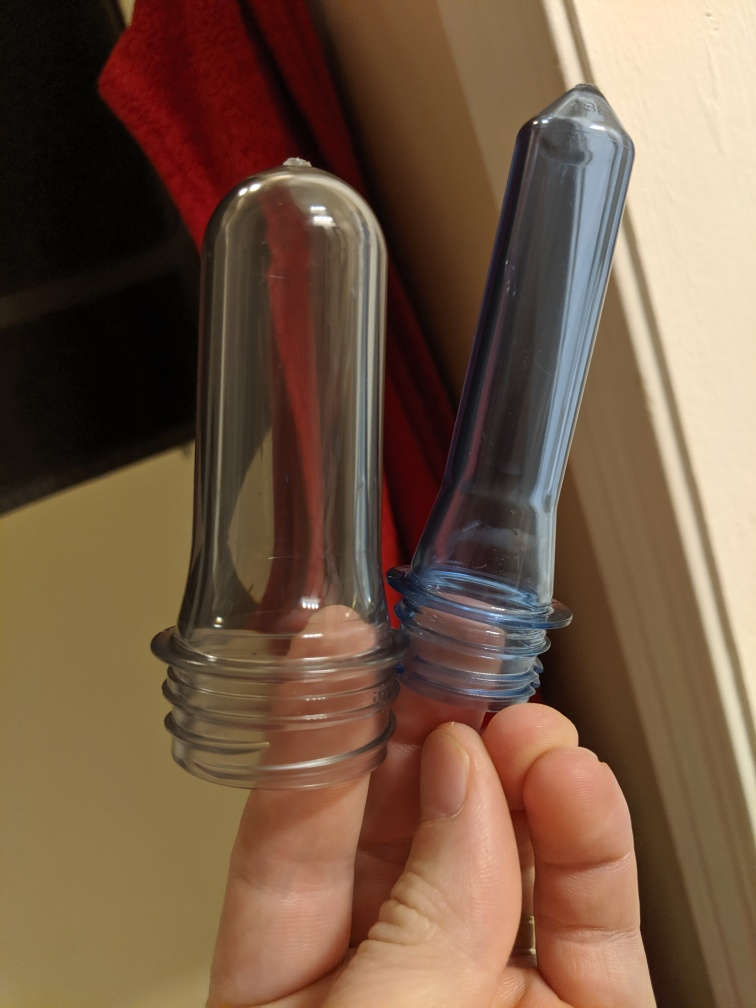preform: (140, 146, 414, 803), (375, 71, 643, 717)
